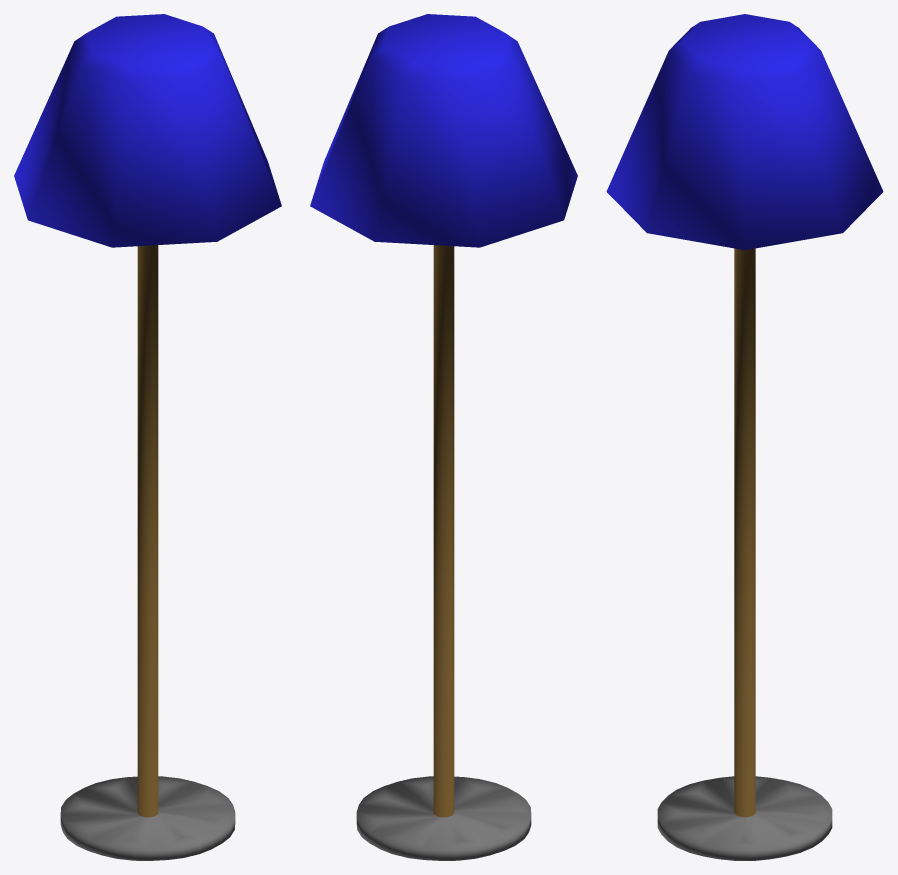
The picture shows the model from 3 angles, left to right: view 1: azimuth 30°, elevation 25°; view 2: azimuth 150°, elevation 25°; view 3: azimuth 270°, elevation 25°; orthographic projection.
Visible parts, largest first — view 1: Cylinder.003; view 2: Cylinder.003; view 3: Cylinder.003.
Part boxes in pixels (x1,y1,x2,y2): Cylinder.003: (14, 14, 281, 860); Cylinder.003: (310, 14, 577, 860); Cylinder.003: (606, 14, 883, 860).
Bounding box in the file's own units: 55.96 × 175 × 55.96.
